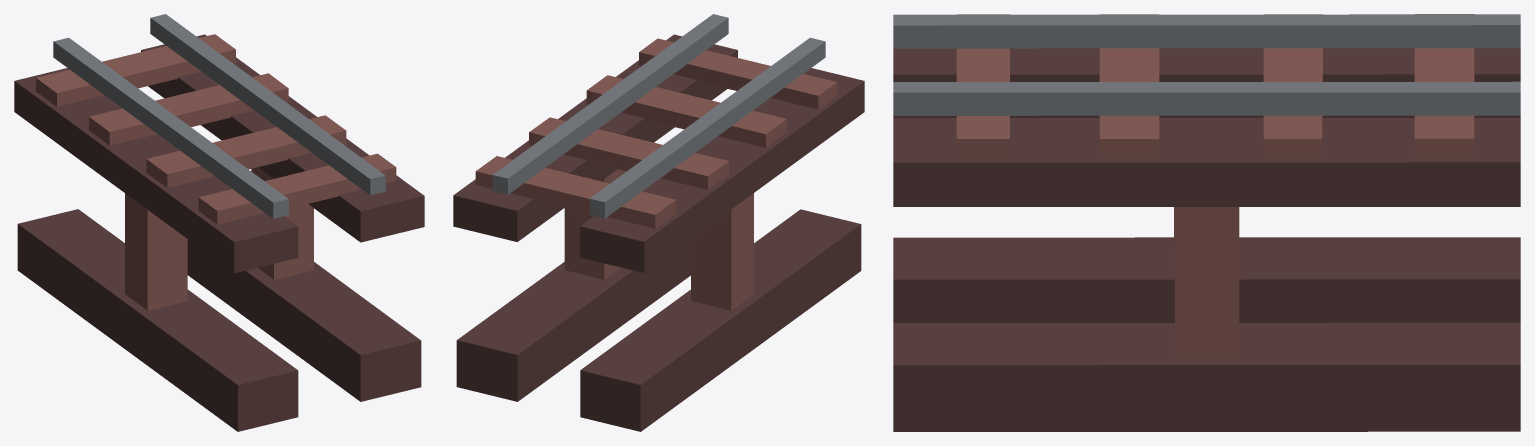
File: DarkRoseWoodMechSmallMinecartRailSection1.fbx
The picture shows the model from 3 angles, left to right: view 1: azimuth 30°, elevation 25°; view 2: azimuth 150°, elevation 25°; view 3: azimuth 270°, elevation 25°; orthographic projection. The views are drawn at different scales.
Parts seen in each view (by area): view 1: DarkRoseWoodMechSmallMinecartRailSection1; view 2: DarkRoseWoodMechSmallMinecartRailSection1; view 3: DarkRoseWoodMechSmallMinecartRailSection1.
Part boxes in pixels (bbox=[...]): DarkRoseWoodMechSmallMinecartRailSection1: bbox=[14, 14, 424, 431]; DarkRoseWoodMechSmallMinecartRailSection1: bbox=[453, 14, 864, 431]; DarkRoseWoodMechSmallMinecartRailSection1: bbox=[893, 14, 1520, 431].
Bounding box in the file's own units: 200 × 221 × 400.
3 materials, 3 textured.
